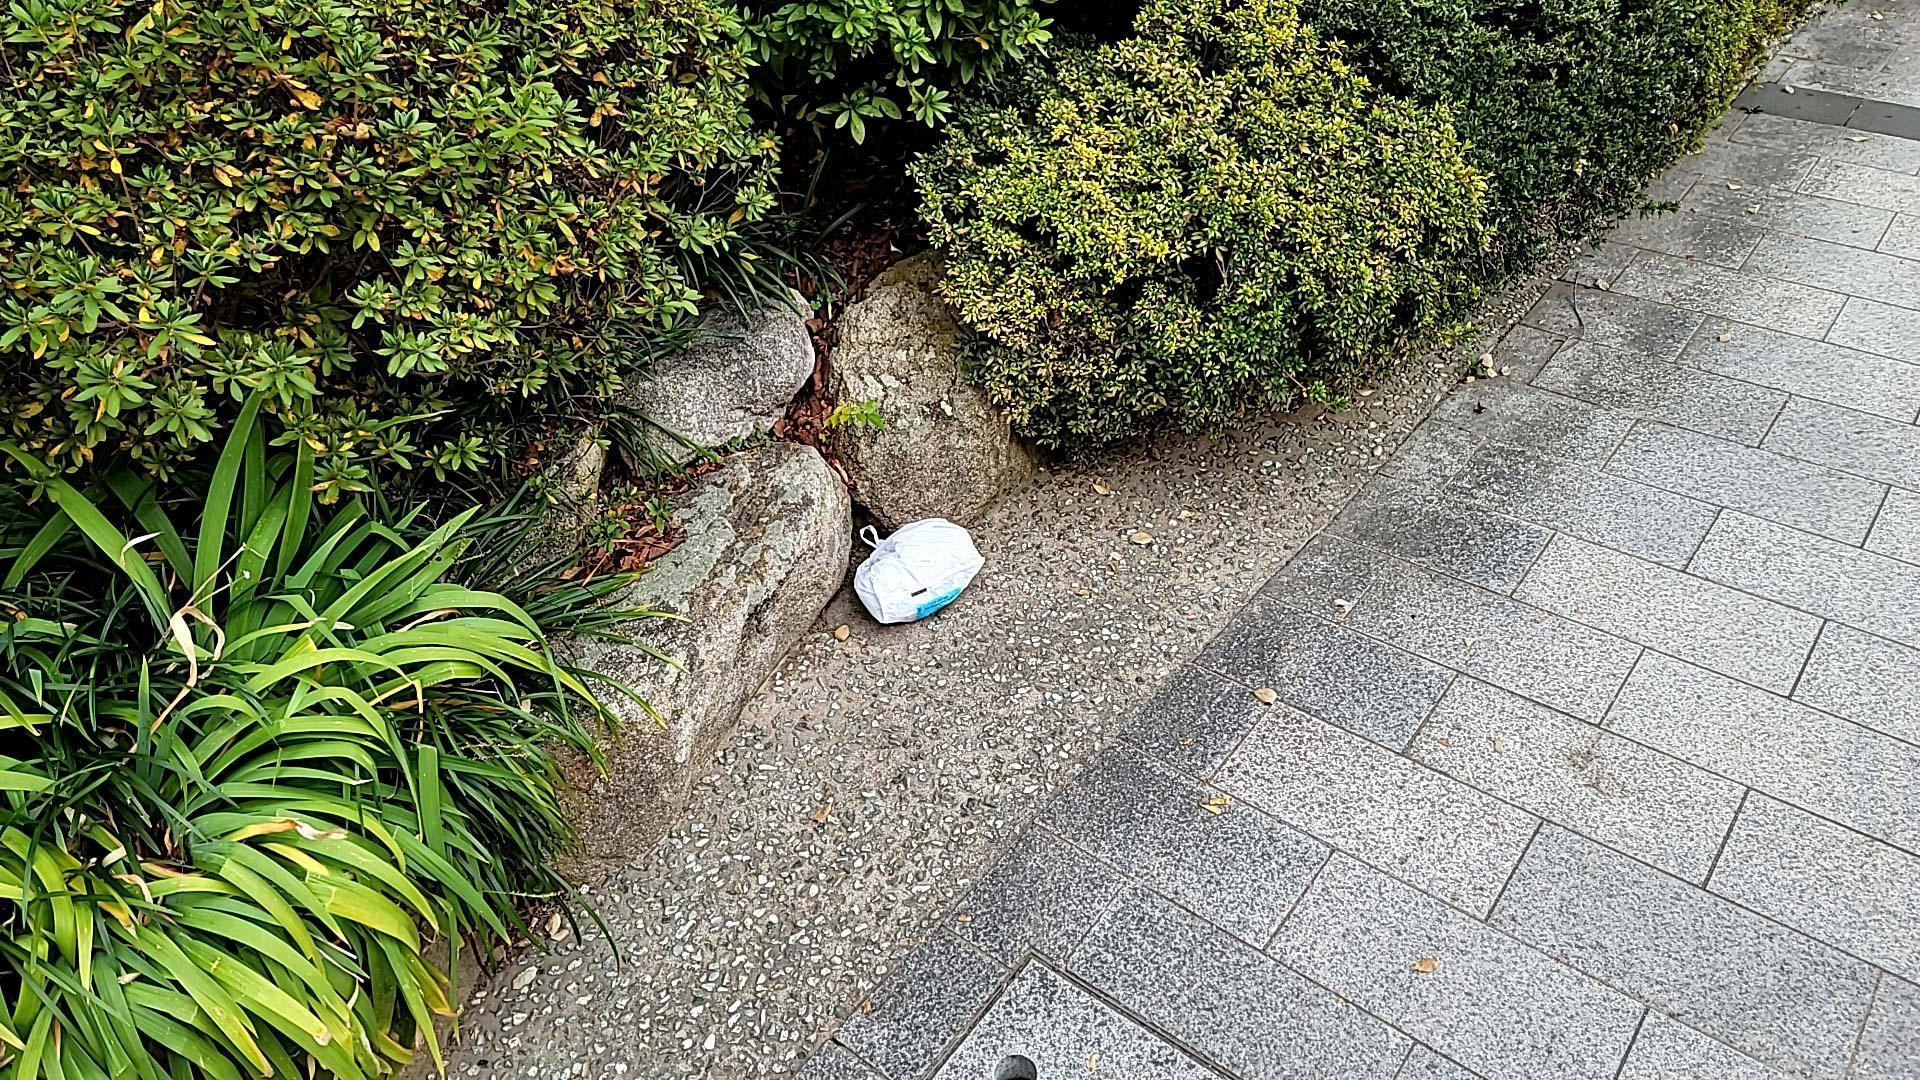white_bag: (832, 505, 992, 642)
